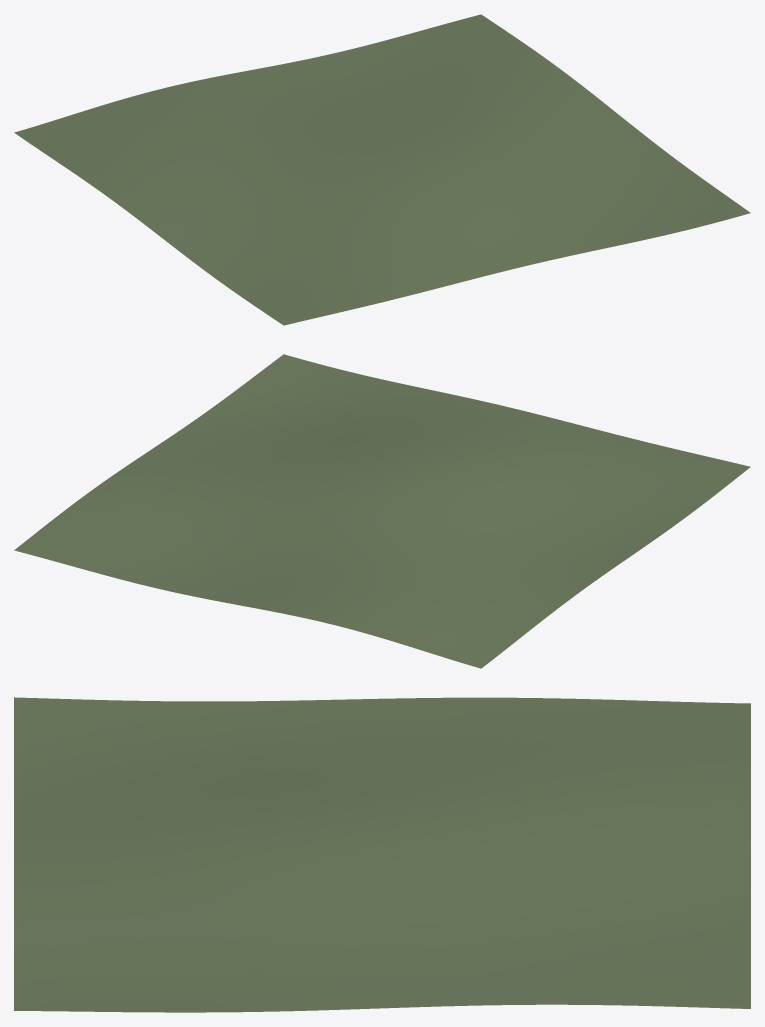
File: sapphire_wind_headland.obj
3 views of the same model, one above another, from view 1: azimuth 30°, elevation 25°; view 2: azimuth 150°, elevation 25°; view 3: azimuth 270°, elevation 25° (orthographic). The views are drawn at different scales.
Bounding box in the file's own units: 179 × 5.85 × 179.
